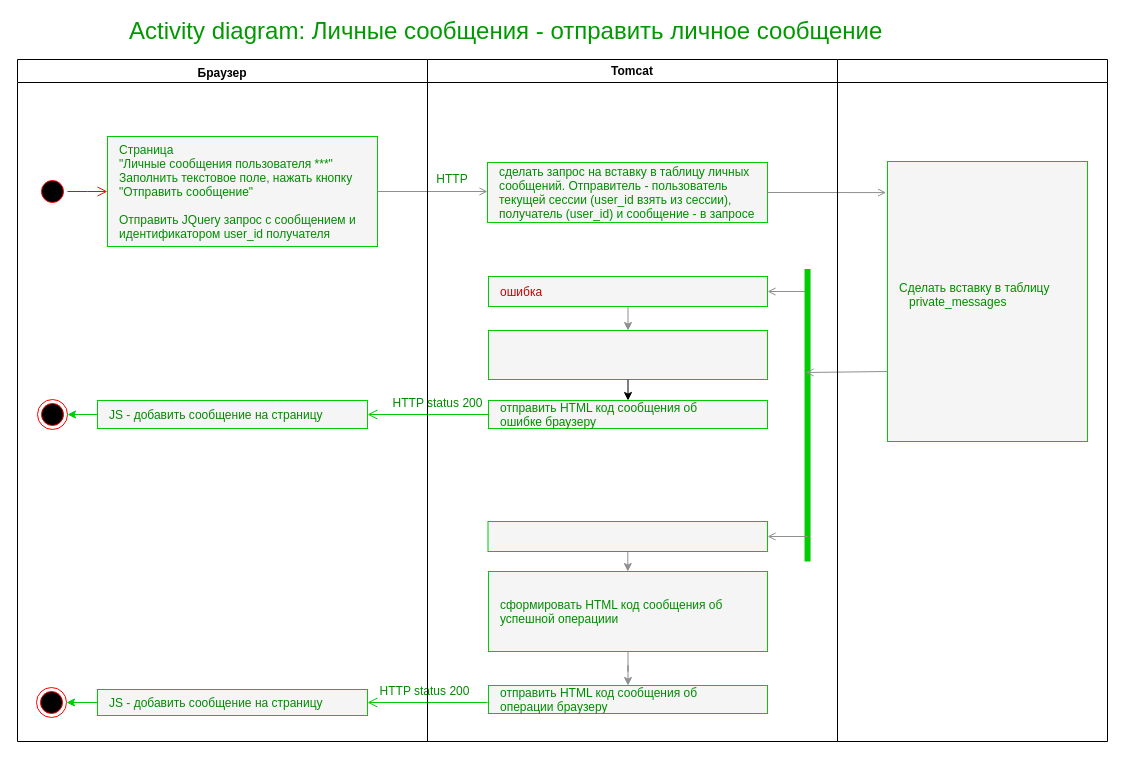
Image size: 1125x759. Some labels were removed from this diagram. Here are the shapes that lost their labels. From the top down, the centre of each, then its label:
the point at 628,355: сформировать HTML код сообщения об ошибке
the point at 972,400: PostgreSQL
the point at 627,536: вставка прошла успешно
